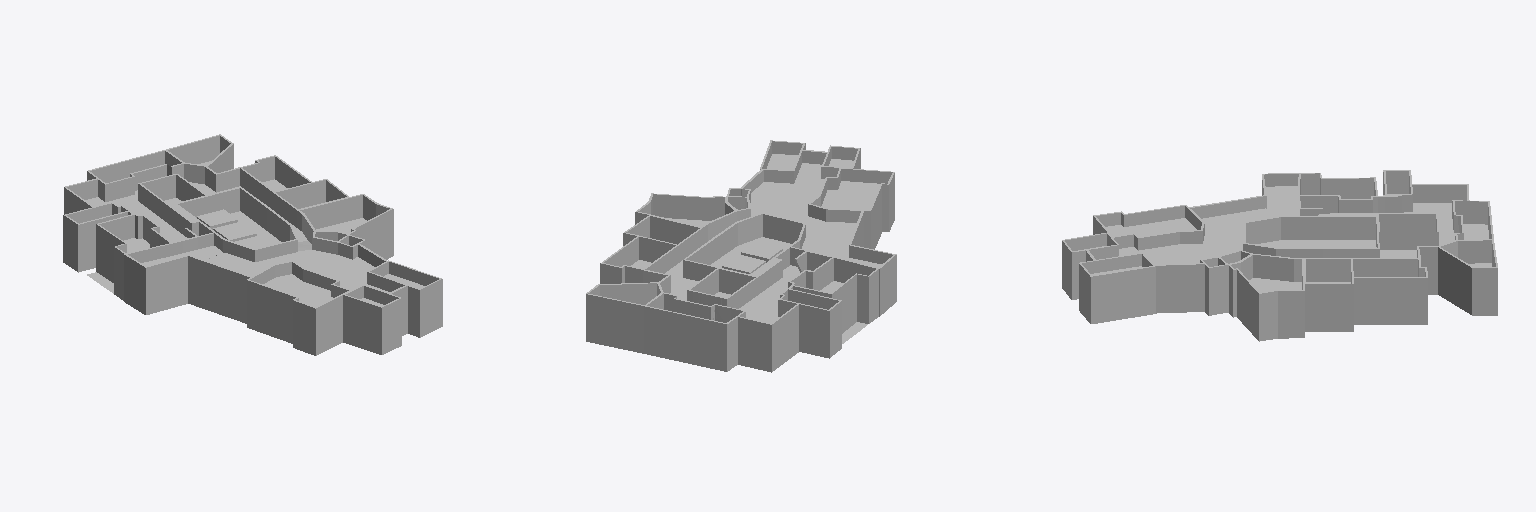
File: Epitech.obj
3 renders of one model, left to right at view 1: azimuth 30°, elevation 25°; view 2: azimuth 150°, elevation 25°; view 3: azimuth 270°, elevation 25°, orthographic.
Parts seen in each view (by area): view 1: Wall4, Tesla, Kuth, Cray, Bouman, Turing, Easley, Hamilton, Patterson, TeslaCeiling.001, FeiFei, Babbage (+8 smaller); view 2: Hamilton, Kuth, FeiFei, Cray, Tesla, Wall6, Patterson, TeslaCeiling.001, Turing, Pascal, Byron, Babbage (+7 smaller); view 3: Turing, Kuth, Babbage, Easley, FeiFei, Pascal, Cray, Tesla, Wall5, Byron, TeslaCeiling.001, Bouman (+11 smaller).
Part boxes in pixels (x1,y1,x2,y2): Wall4: (124,254,251,323); Tesla: (247,261,351,355); Kuth: (168,187,297,261); Cray: (96,214,197,300); Bouman: (343,284,401,354); Turing: (297,194,393,259); Easley: (367,260,442,337); Hamilton: (87,150,183,201); Patterson: (63,202,129,272); TeslaCeiling.001: (257,250,389,292); FeiFei: (166,134,233,183); Babbage: (240,155,311,209); Hamilton: (644,293,745,371); Kuth: (683,213,806,294); FeiFei: (586,282,663,353); Cray: (788,251,878,333); Tesla: (808,168,894,249); Wall6: (738,304,798,372); Patterson: (778,288,841,358); TeslaCeiling.001: (750,163,824,233); Turing: (635,193,736,244); Pascal: (623,215,702,262); Byron: (687,268,757,308); Babbage: (600,236,678,283); Turing: (1229,254,1304,341); Kuth: (1243,208,1379,257); Babbage: (1353,258,1427,324); Easley: (1079,253,1155,323); FeiFei: (1438,239,1497,315); Pascal: (1304,258,1353,331); Cray: (1298,173,1377,213); Tesla: (1093,205,1204,250); Wall5: (1154,263,1205,313); Byron: (1378,213,1438,249); TeslaCeiling.001: (1119,235,1242,264); Bouman: (1062,232,1118,299).
Size of the model in its own units: 78.61 by 14.23 by 117.